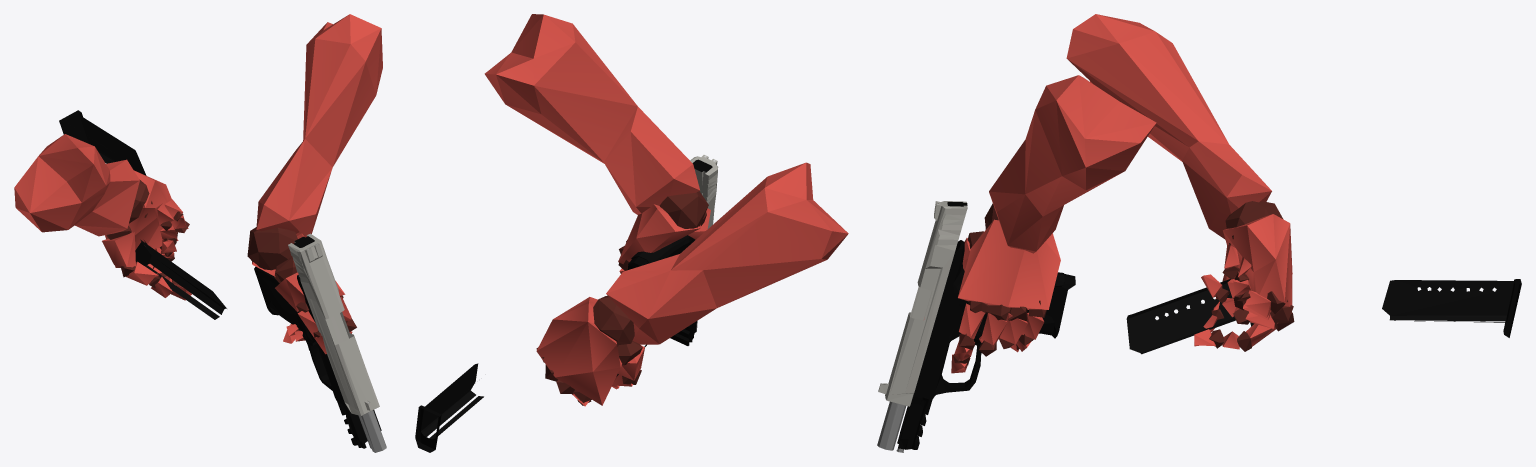
The model's file is M&P9reloadNormal1lowP_000131.obj.
3 views of the same model, side by side, from view 1: azimuth 30°, elevation 25°; view 2: azimuth 150°, elevation 25°; view 3: azimuth 270°, elevation 25° (orthographic). The views are drawn at different scales.
Visible parts, largest first — view 1: Beta_Surface.001_Beta_Surface.002, slide_平面.002, triger_平面.001, Beta_Joints.001_Beta_Joints.002, magazine.002_平面.005, magazine_平面.003; view 2: Beta_Surface.001_Beta_Surface.002, Beta_Joints.001_Beta_Joints.002, magazine_平面.003, triger_平面.001, slide_平面.002; view 3: Beta_Surface.001_Beta_Surface.002, triger_平面.001, slide_平面.002, magazine_平面.003, Beta_Joints.001_Beta_Joints.002, magazine.002_平面.005.
Boxes of the visible parts, <box> form: Beta_Surface.001_Beta_Surface.002: <box>14,14,382,354</box>; slide_平面.002: <box>288,233,379,415</box>; triger_平面.001: <box>254,266,386,452</box>; Beta_Joints.001_Beta_Joints.002: <box>106,179,356,337</box>; magazine.002_平面.005: <box>135,239,226,319</box>; magazine_平面.003: <box>59,110,146,175</box>; Beta_Surface.001_Beta_Surface.002: <box>484,14,848,406</box>; Beta_Joints.001_Beta_Joints.002: <box>536,191,708,405</box>; magazine_平面.003: <box>415,363,483,452</box>; triger_平面.001: <box>627,235,697,345</box>; slide_平面.002: <box>690,155,718,228</box>; Beta_Surface.001_Beta_Surface.002: <box>924,14,1292,373</box>; triger_平面.001: <box>877,240,1075,452</box>; slide_平面.002: <box>878,201,967,406</box>; magazine_平面.003: <box>1382,279,1521,337</box>; Beta_Joints.001_Beta_Joints.002: <box>953,201,1294,365</box>; magazine.002_平面.005: <box>1126,279,1254,354</box>.
Size of the model in its own units: 68.98 by 69.27 by 99.11.
